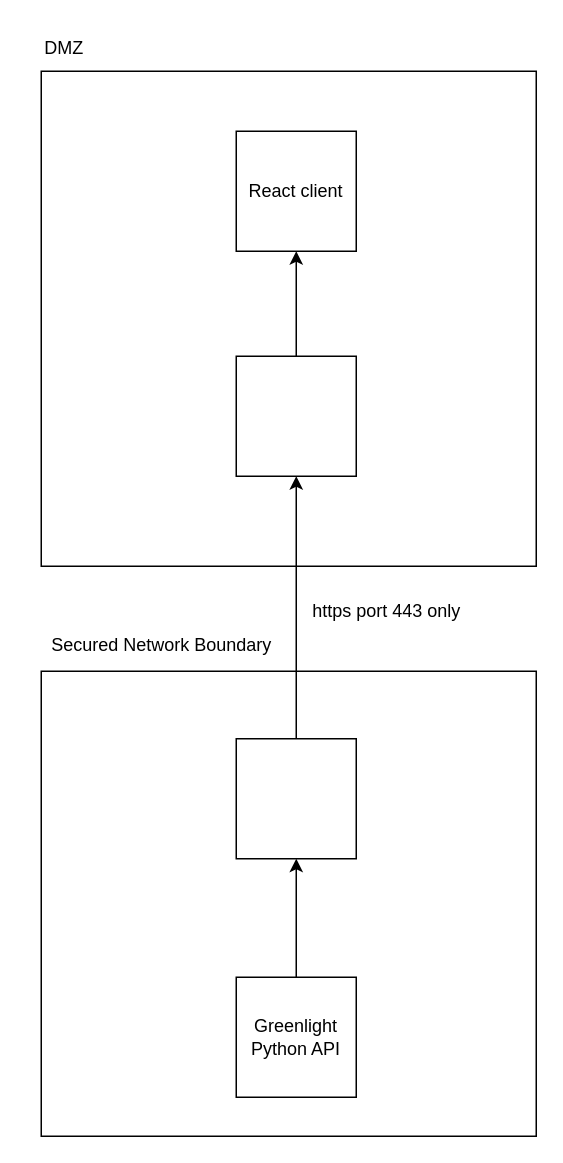
This 563x1163 diagram has some shape labels left out. Here are the shapes that lost their labels. From the top down, the box of each, then its label:
(235, 355, 356, 476): Express Node.js REST API
(235, 737, 356, 859): Django REST API
